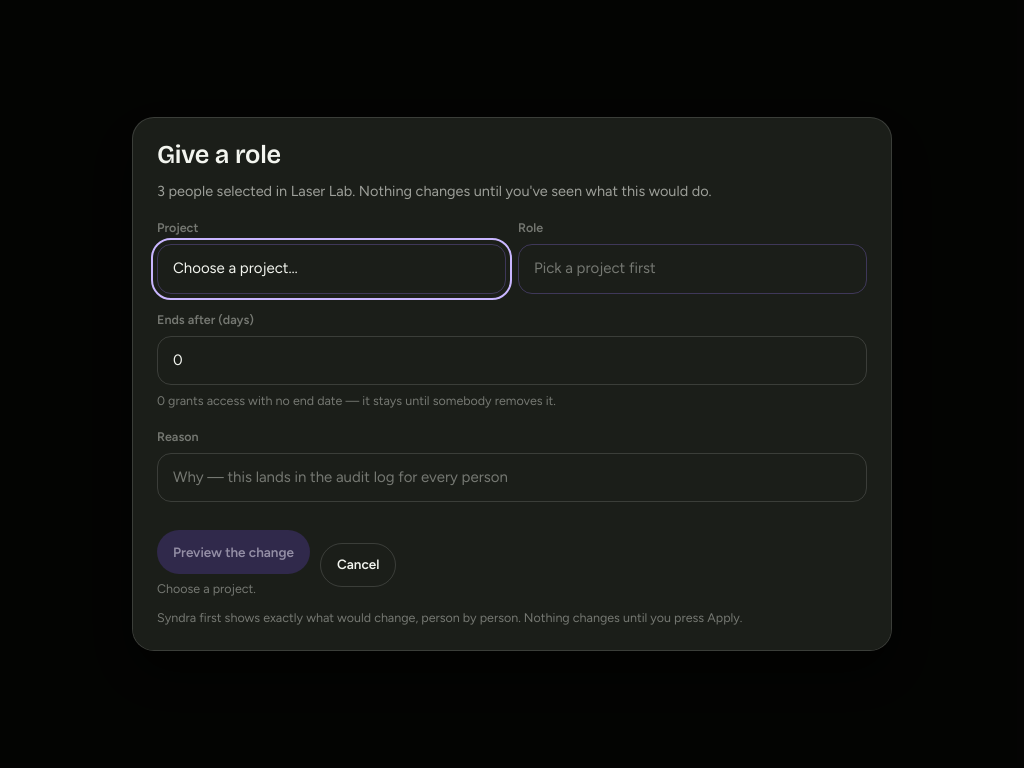
Test: BulkDialog › shows the server's plan verbatim, naming every person
Select "Laser Lab" in the dropdown labelled "Project" at (332, 269), box x1=157 y1=244 x2=506 y2=294
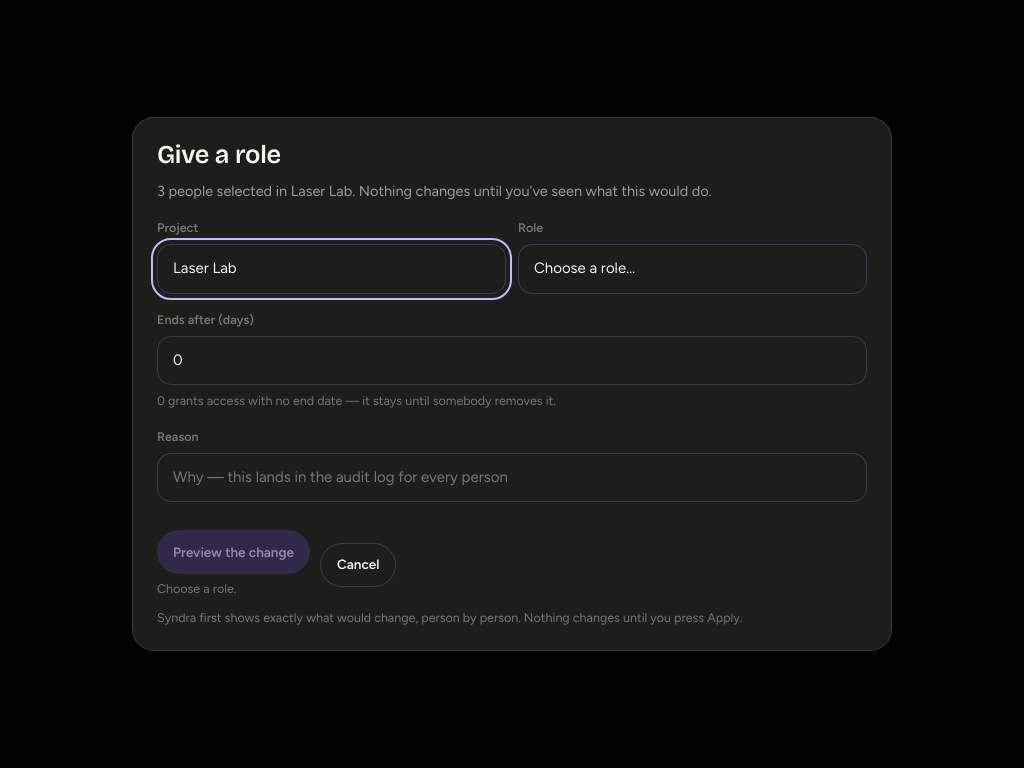
Select "Trained" in the dropdown labelled "Role" at (692, 269), box x1=518 y1=244 x2=867 y2=294
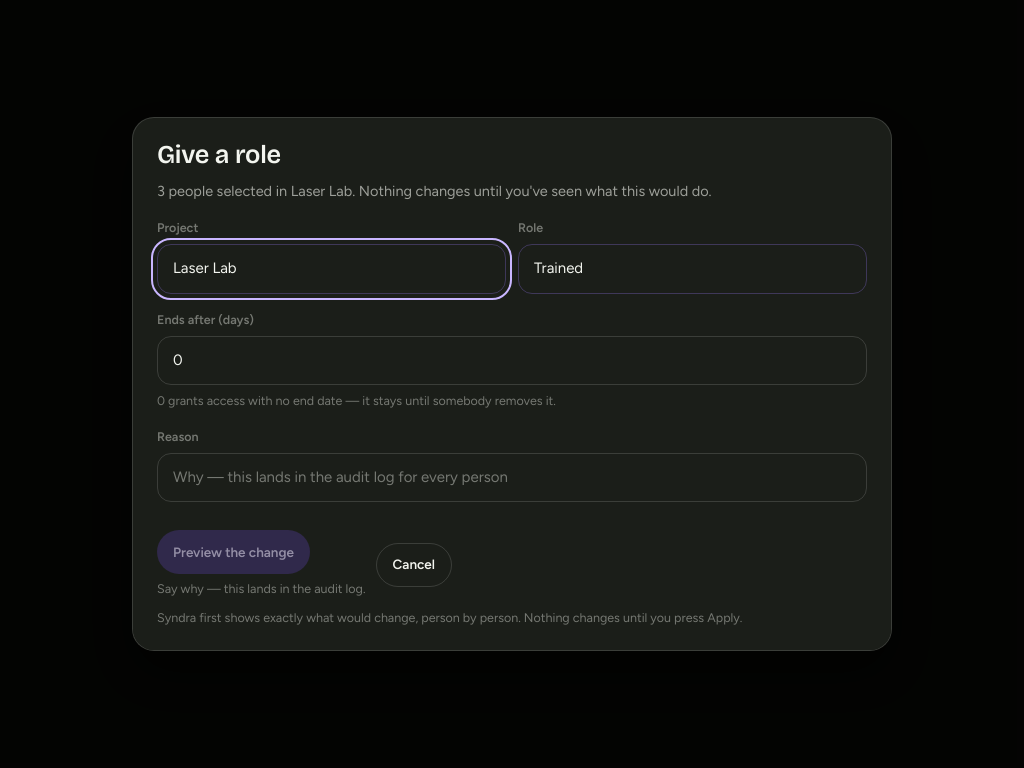
Type "New cohort" into the field labelled "Reason".
click(512, 478); type("New cohort")  # box x1=157 y1=453 x2=867 y2=502
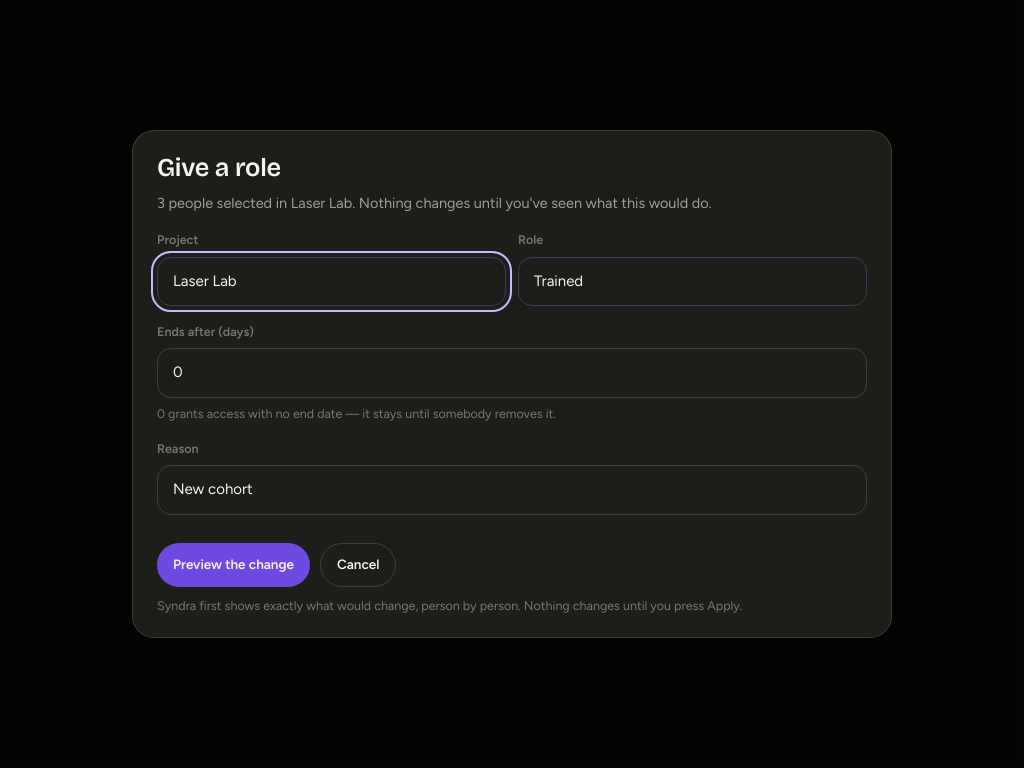
Click the button "Preview the change".
click(234, 565)  # box x1=157 y1=543 x2=310 y2=587
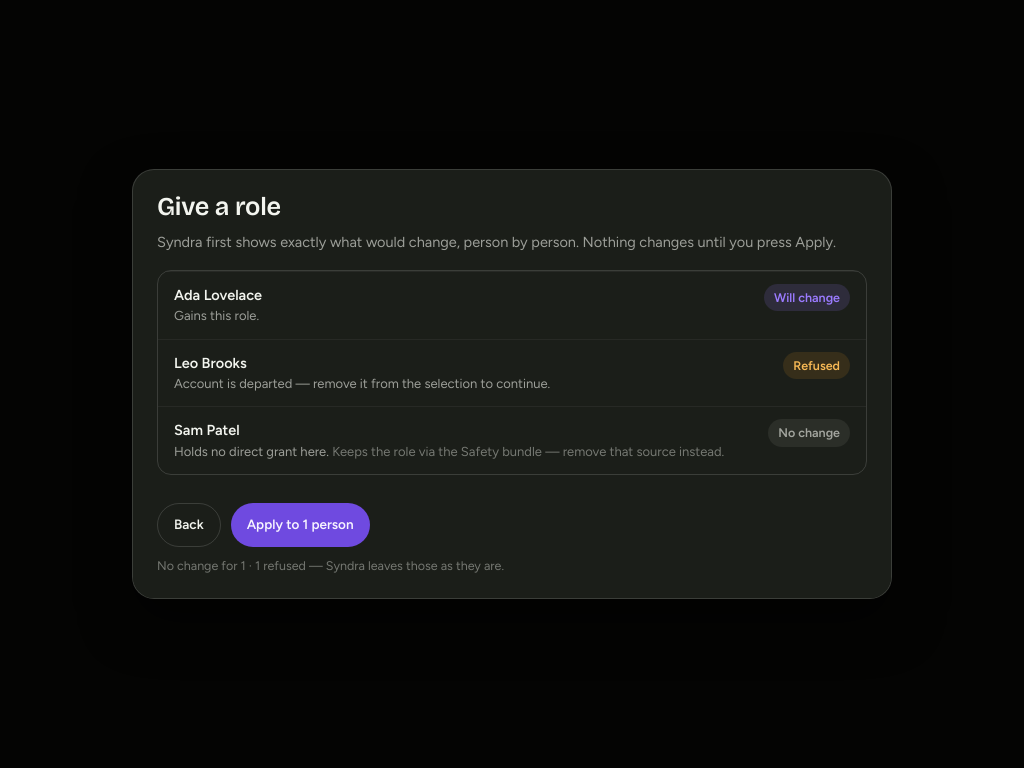
Result: the text "Ada Lovelace" is shown at x1=174 y1=286 x2=262 y2=304
Result: the text "Leo Brooks" is shown at x1=174 y1=354 x2=247 y2=372
Result: the text "Account is departed" is shown at x1=174 y1=376 x2=550 y2=391
